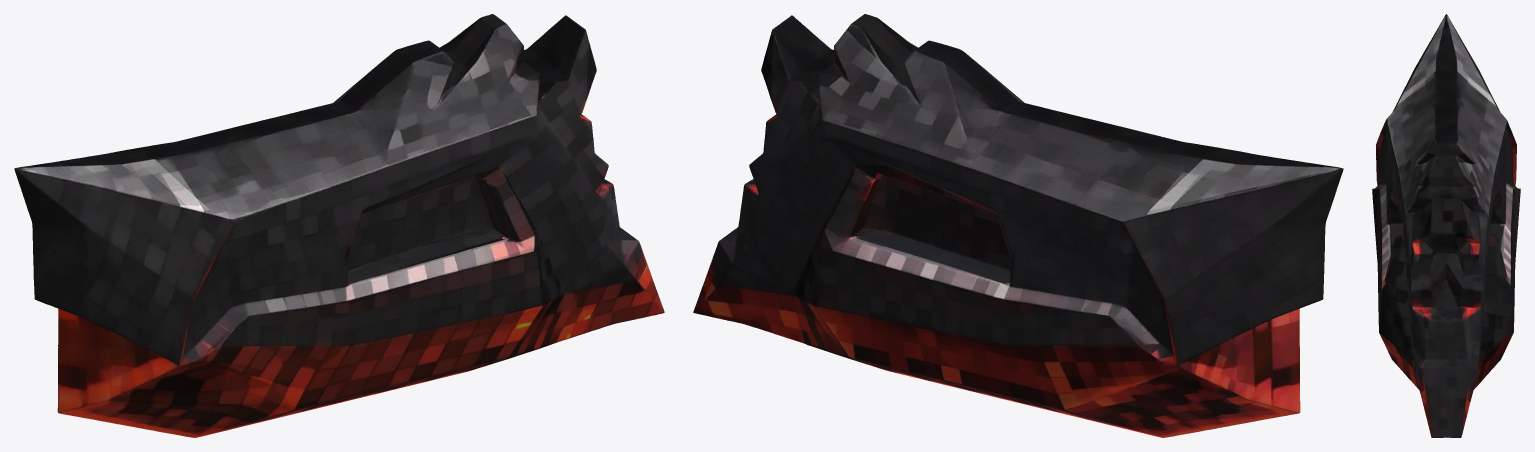
Rendered from item_weapon_fragment.glb.
3 renders of one model, left to right at view 1: azimuth 30°, elevation 25°; view 2: azimuth 150°, elevation 25°; view 3: azimuth 270°, elevation 25°, orthographic. The views are drawn at different scales.
Bounding box in the file's own units: 1.9 × 0.9777 × 0.5446.
Materials: 1 (1 with a texture image).
